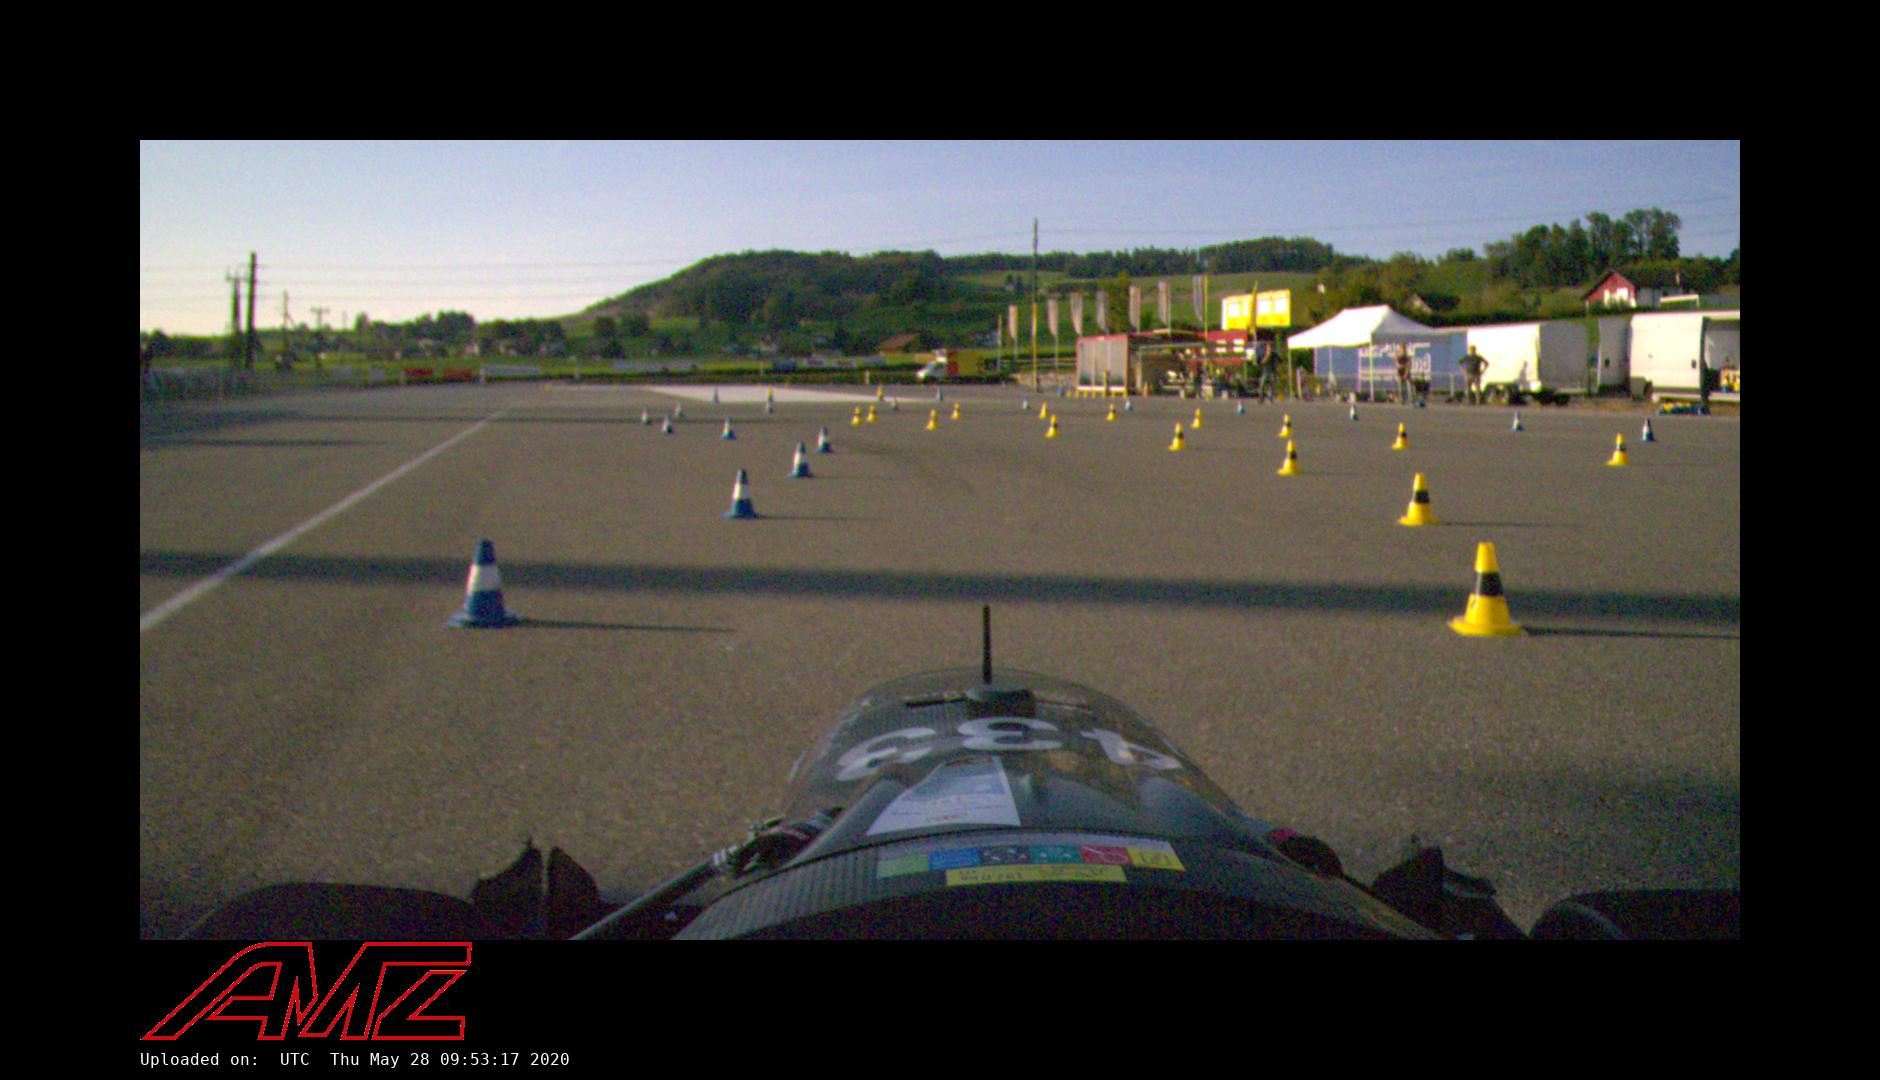blue_cone: (446, 539, 524, 629), (722, 471, 759, 520), (788, 442, 814, 478), (815, 427, 835, 453), (1638, 419, 1657, 442), (720, 418, 737, 439), (1510, 412, 1526, 432), (661, 414, 674, 433), (1234, 400, 1247, 416), (1347, 405, 1360, 420), (641, 408, 651, 425), (1123, 398, 1134, 411)
yellow_cone: (1446, 543, 1530, 638), (1397, 473, 1442, 526), (1276, 441, 1305, 476), (1606, 433, 1633, 466), (1168, 423, 1189, 451), (1392, 423, 1413, 450), (1044, 415, 1062, 438), (1278, 414, 1295, 437), (926, 410, 941, 429), (850, 407, 864, 425), (1191, 409, 1205, 427), (1106, 404, 1119, 421), (866, 406, 879, 421), (951, 403, 963, 419), (1038, 402, 1049, 419)
